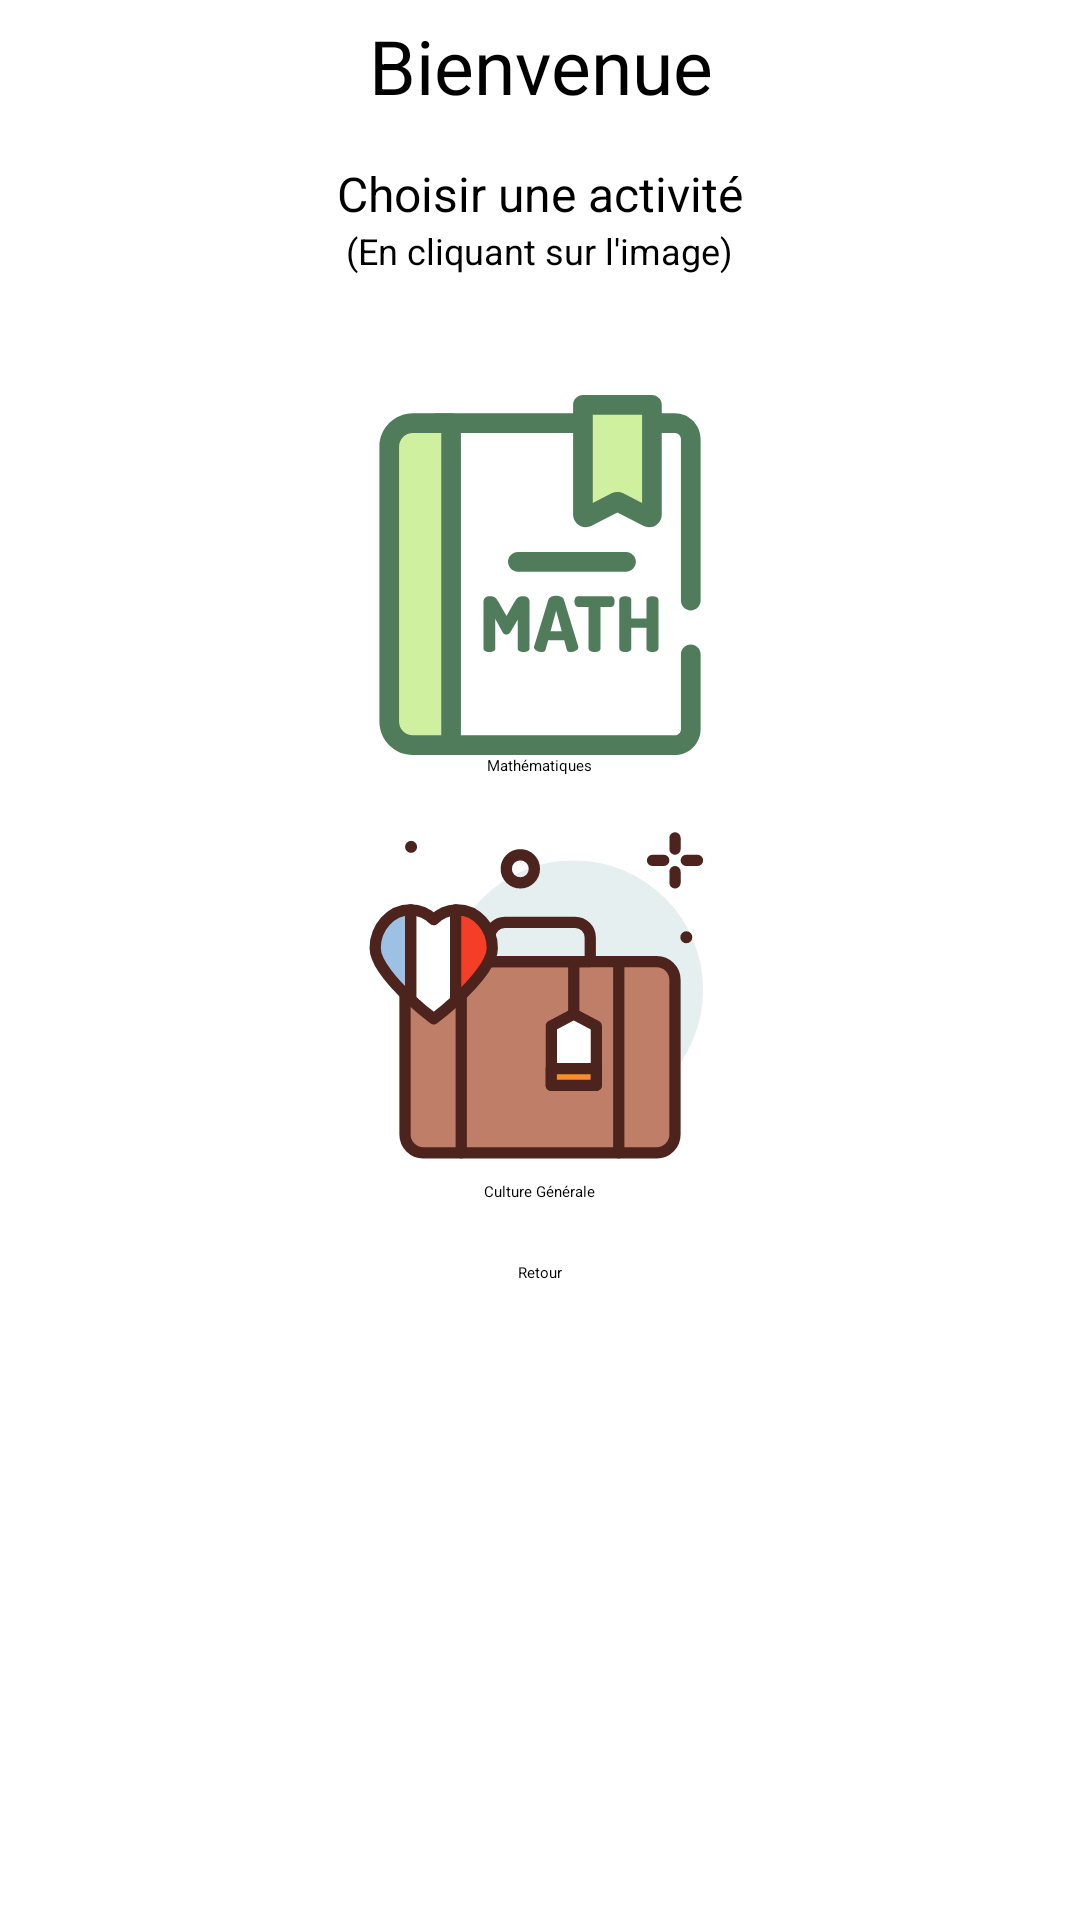

Screen size 1080x1920. Icon name, then its center in pixels as point (x, y):
france luggage: point (536, 995)
